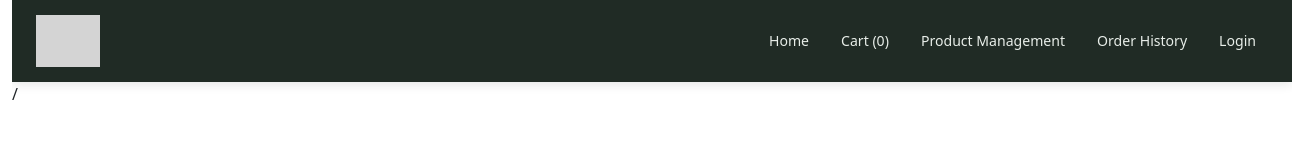
Test: NavBar navigation › navigates to Order History without a document reload
The image size is (1292, 160).
Click the link "Order History" at point(1142, 41), box [1097, 31, 1187, 50]
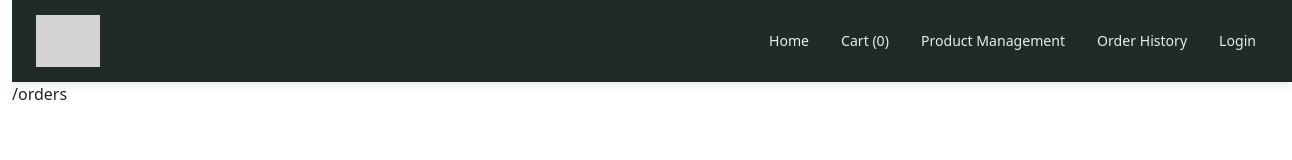
Expected: the text with test id "current-path" reads "/orders", [12, 83, 67, 105]
